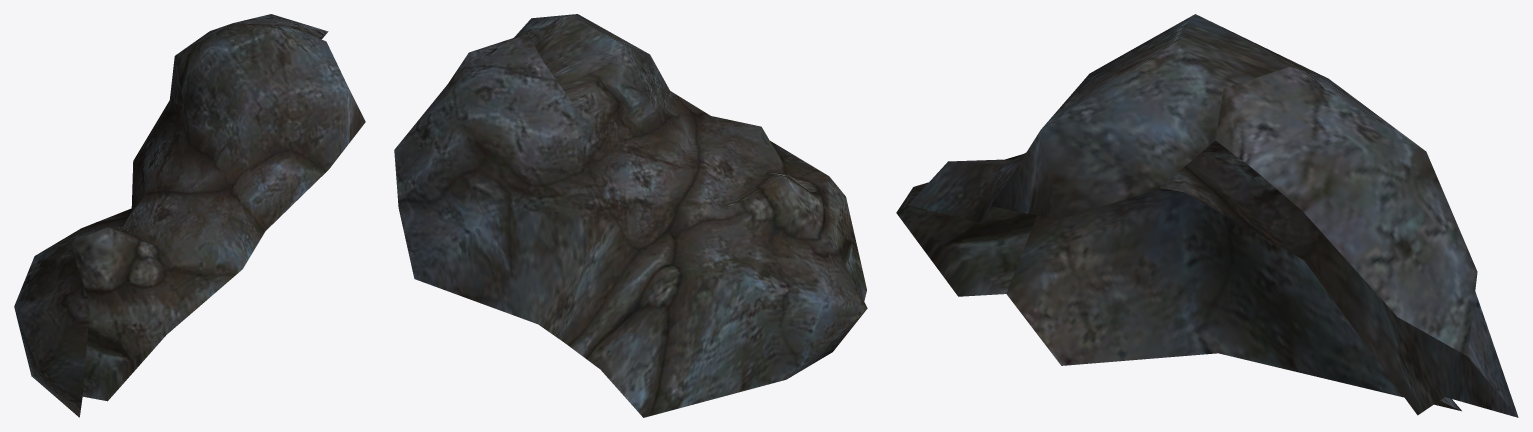
File: S_Rock_Yellow032_3.FBX
3 renders of one model, left to right at view 1: azimuth 30°, elevation 25°; view 2: azimuth 150°, elevation 25°; view 3: azimuth 270°, elevation 25°, orthographic. The views are drawn at different scales.
Visible parts, largest first — view 1: S_Rock_Yellow032_3; view 2: S_Rock_Yellow032_3; view 3: S_Rock_Yellow032_3.
Part boxes in pixels (left/top/right/bottom): S_Rock_Yellow032_3: left=14, top=14, right=365, bottom=417; S_Rock_Yellow032_3: left=394, top=14, right=867, bottom=417; S_Rock_Yellow032_3: left=896, top=14, right=1518, bottom=417.
Size of the model in its own units: 5.04 by 4.37 by 3.93.
